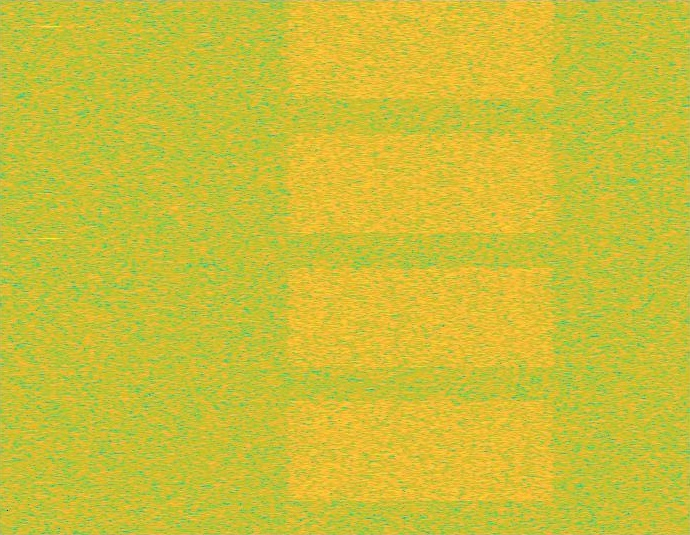5G: (283, 0, 559, 534)
Radar: (43, 0, 57, 534)
